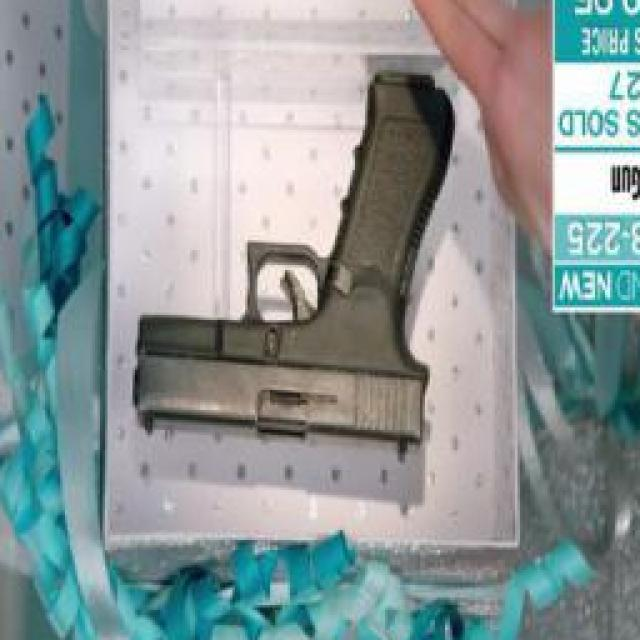pistol: (135, 78, 450, 458)
